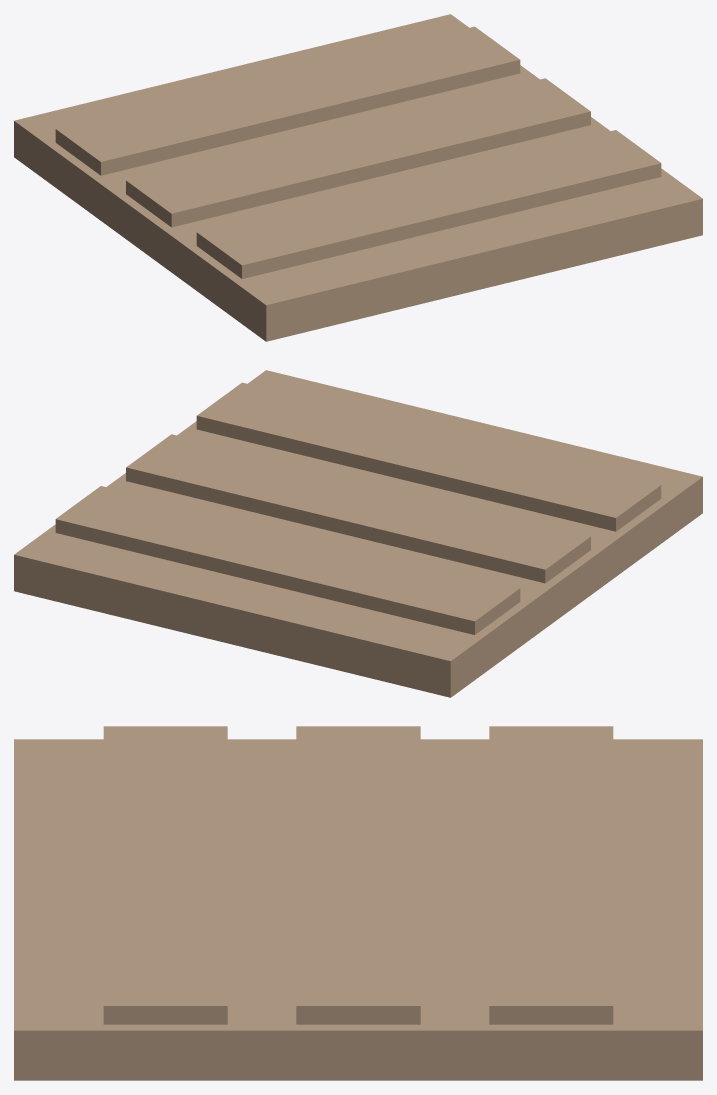
Rendered from soil_empty.glb.
3 renders of one model, top to bottom at view 1: azimuth 30°, elevation 25°; view 2: azimuth 150°, elevation 25°; view 3: azimuth 270°, elevation 25°, orthographic. The views are drawn at different scales.
Visible parts, largest first — view 1: SoilEmpty; view 2: SoilEmpty; view 3: SoilEmpty.
Boxes of the visible parts, box(x1,y1,x2,y2) form: SoilEmpty: box(14, 14, 702, 341); SoilEmpty: box(14, 370, 702, 697); SoilEmpty: box(14, 726, 702, 1080).
Bounding box in the file's own units: 1 × 0.11 × 1.
